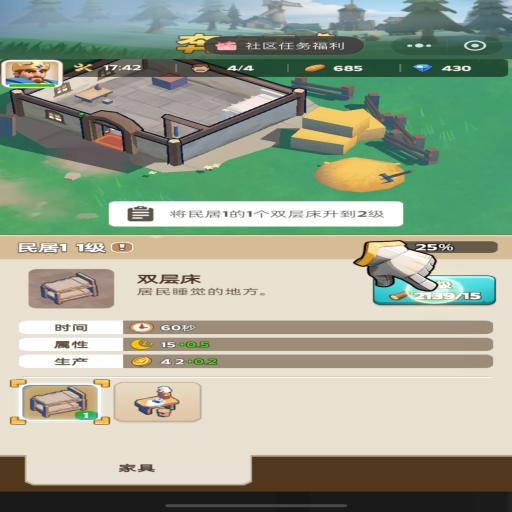newcomer_hand: (351, 240, 435, 292)
